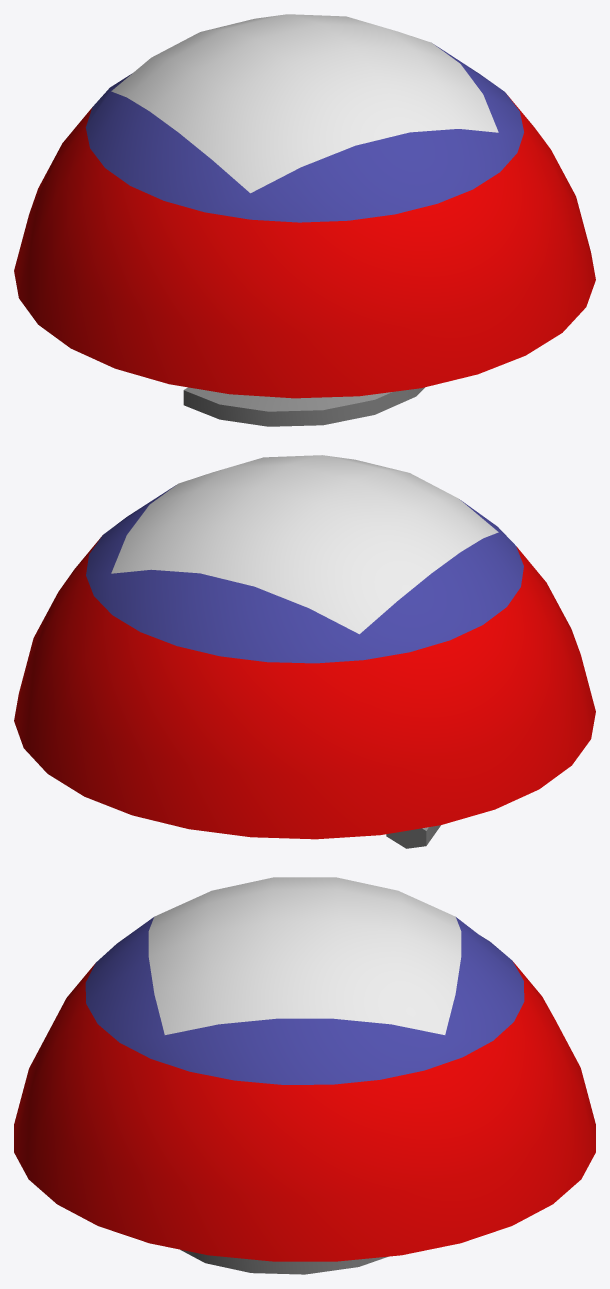
The model's file is spring.fbx.
The picture shows the model from 3 angles, top to bottom: view 1: azimuth 30°, elevation 25°; view 2: azimuth 150°, elevation 25°; view 3: azimuth 270°, elevation 25°; orthographic projection.
Parts seen in each view (by area): view 1: Cube.001; view 2: Cube.001; view 3: Cube.001.
Part boxes in pixels (bbox=[...]): Cube.001: bbox=[14, 14, 595, 426]; Cube.001: bbox=[14, 455, 595, 848]; Cube.001: bbox=[14, 877, 595, 1274].
Size of the model in its own units: 3.42 by 2.21 by 3.42.
